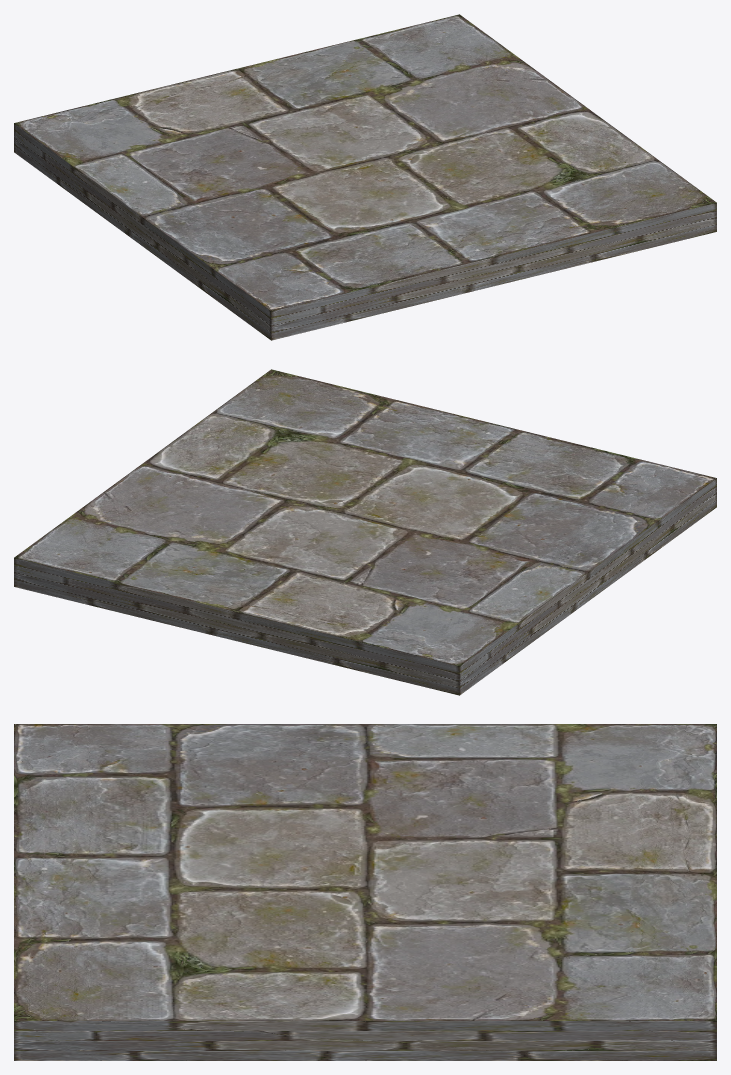
The picture shows the model from 3 angles, top to bottom: view 1: azimuth 30°, elevation 25°; view 2: azimuth 150°, elevation 25°; view 3: azimuth 270°, elevation 25°; orthographic projection. The views are drawn at different scales.
Visible parts, largest first — view 1: SM_Dowdun_Walkway_Floor_8x8_04_LOD0; view 2: SM_Dowdun_Walkway_Floor_8x8_04_LOD0; view 3: SM_Dowdun_Walkway_Floor_8x8_04_LOD0.
Part boxes in pixels (bbox=[...]): SM_Dowdun_Walkway_Floor_8x8_04_LOD0: bbox=[14, 14, 716, 340]; SM_Dowdun_Walkway_Floor_8x8_04_LOD0: bbox=[14, 369, 716, 695]; SM_Dowdun_Walkway_Floor_8x8_04_LOD0: bbox=[14, 724, 716, 1060].
Bounding box in the file's own units: 8 × 0.5 × 8.
1 material, 1 textured.
